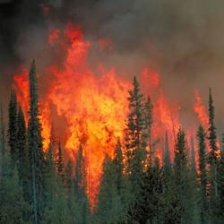fire: (25, 46, 154, 191)
smoke: (111, 4, 221, 71), (2, 2, 58, 73)
